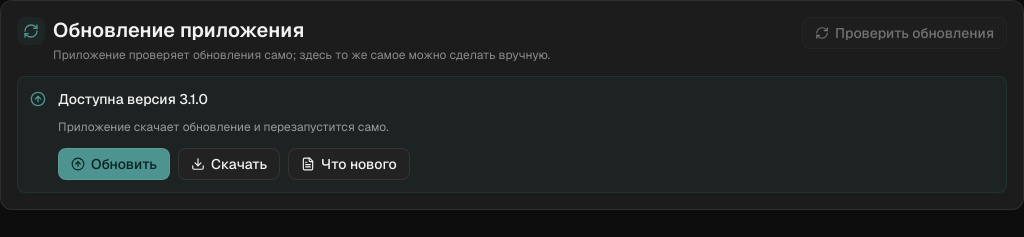
Test: UpdateCard › идущая загрузка сторожем НЕ прерывается: каждое событие прогресса взводит его заново
Step 1. Click the button "Обновить" → (114, 164), box top-left (58, 148), bottom-right (170, 180)
Wait 360000 ms
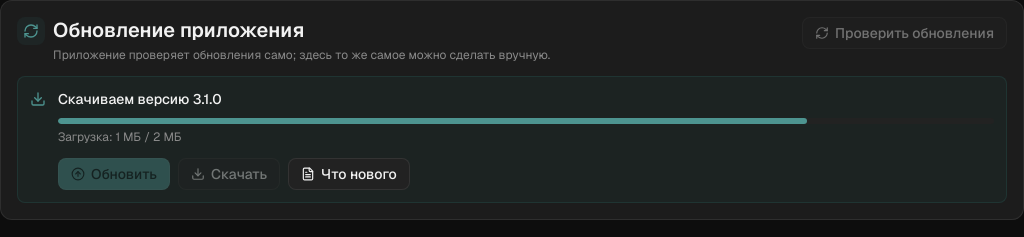
Result: the progress indicator is shown at top-left (58, 118), bottom-right (994, 124)
Result: the button "Обновить" is disabled at top-left (58, 158), bottom-right (170, 190)
